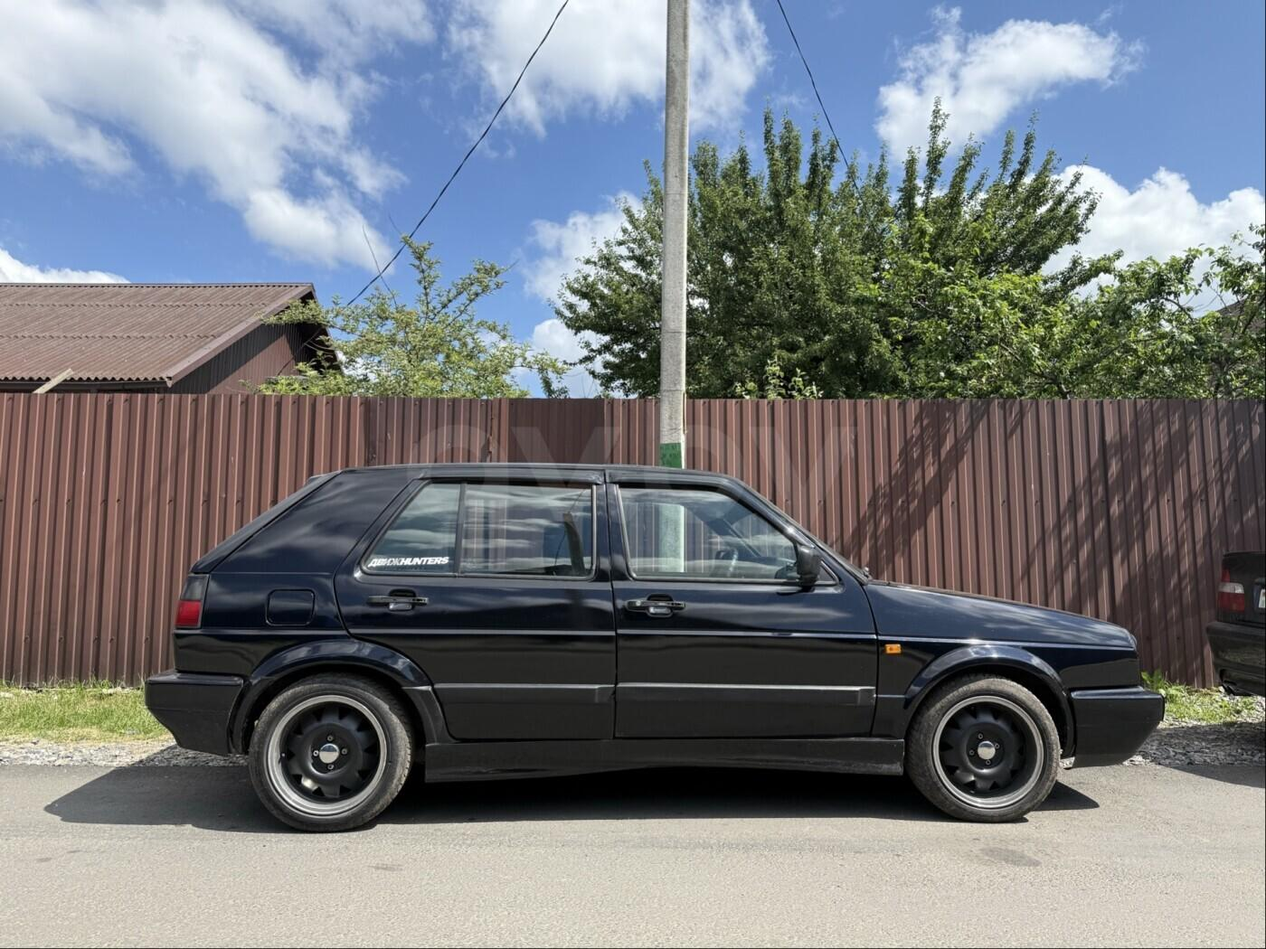Golf_1983-1992: (132, 461, 1170, 829)
